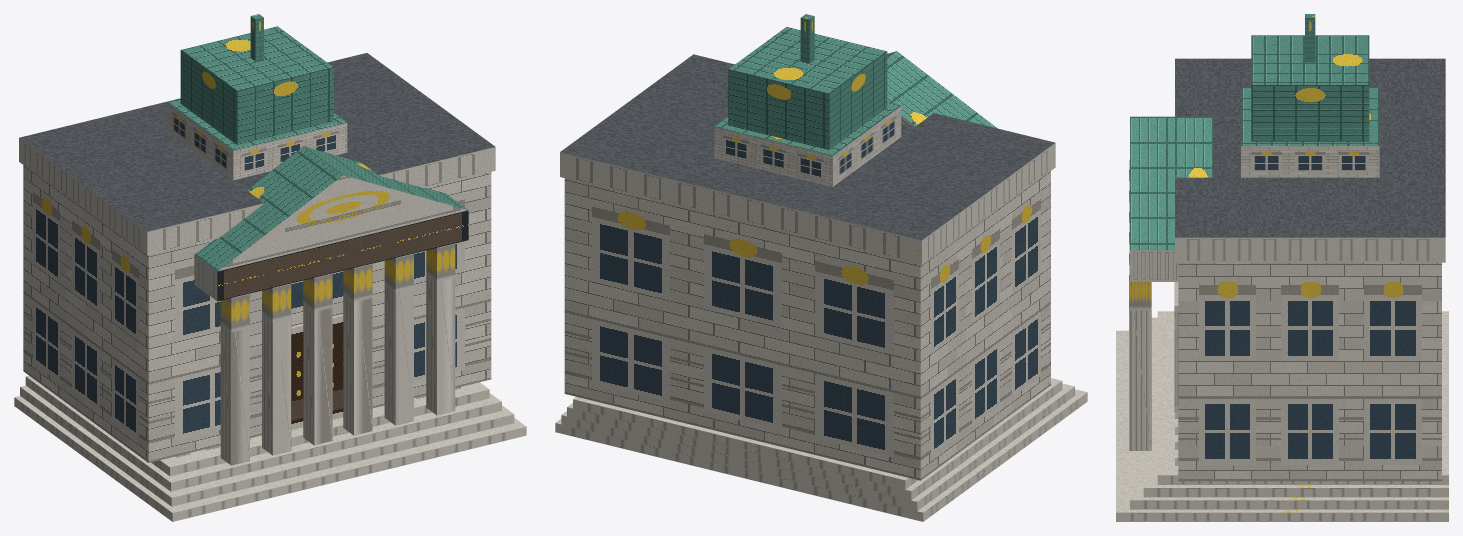
The model's file is landmark_historic_courthouse.glb.
The picture shows the model from 3 angles, left to right: view 1: azimuth 30°, elevation 25°; view 2: azimuth 150°, elevation 25°; view 3: azimuth 270°, elevation 25°; orthographic projection. The views are drawn at different scales.
Visible parts, largest first — view 1: Landmark_Historic_Courthouse; view 2: Landmark_Historic_Courthouse; view 3: Landmark_Historic_Courthouse.
Boxes of the visible parts, box(x1,y1,x2,y2) form: Landmark_Historic_Courthouse: box(14, 14, 526, 521); Landmark_Historic_Courthouse: box(555, 14, 1087, 521); Landmark_Historic_Courthouse: box(1116, 14, 1448, 521).
Size of the model in its own units: 12.4 by 13.2 by 9.6.
1 material, 1 textured.
